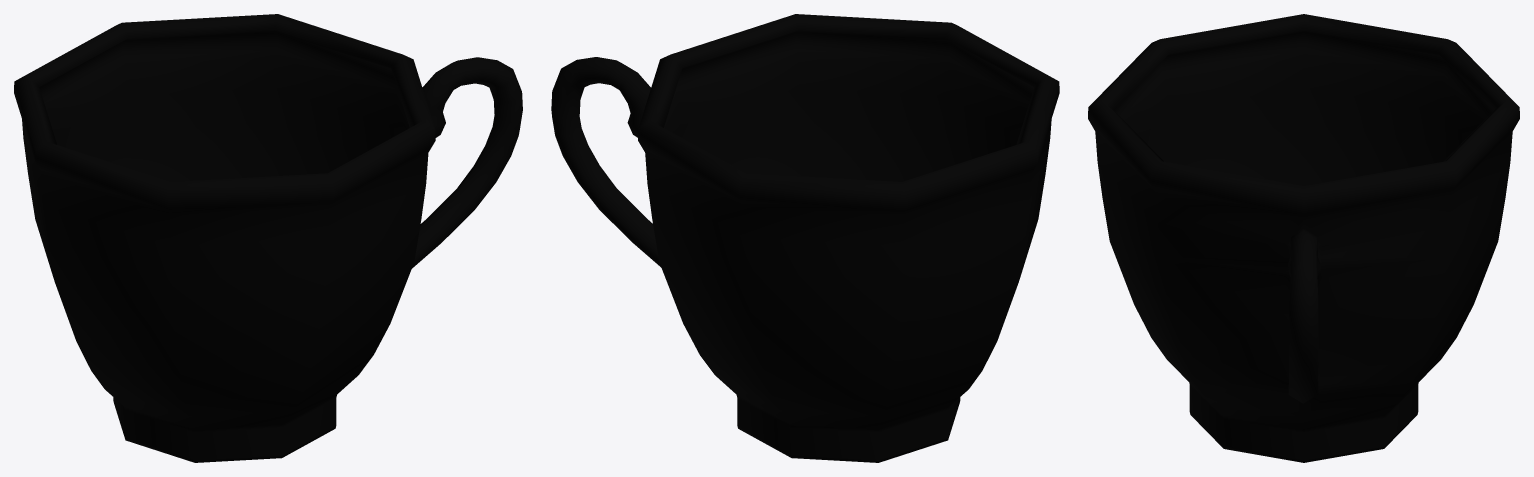
The model's file is teacap.fbx.
3 views of the same model, side by side, from view 1: azimuth 30°, elevation 25°; view 2: azimuth 150°, elevation 25°; view 3: azimuth 270°, elevation 25° (orthographic).
Visible parts, largest first — view 1: カップ; view 2: カップ; view 3: カップ.
Boxes of the visible parts, box(x1,y1,x2,y2) form: カップ: box(14, 14, 522, 462); カップ: box(551, 14, 1059, 462); カップ: box(1088, 14, 1519, 462).
Size of the model in its own units: 0.9297 by 0.5807 by 0.7218.
1 material, 1 textured.
